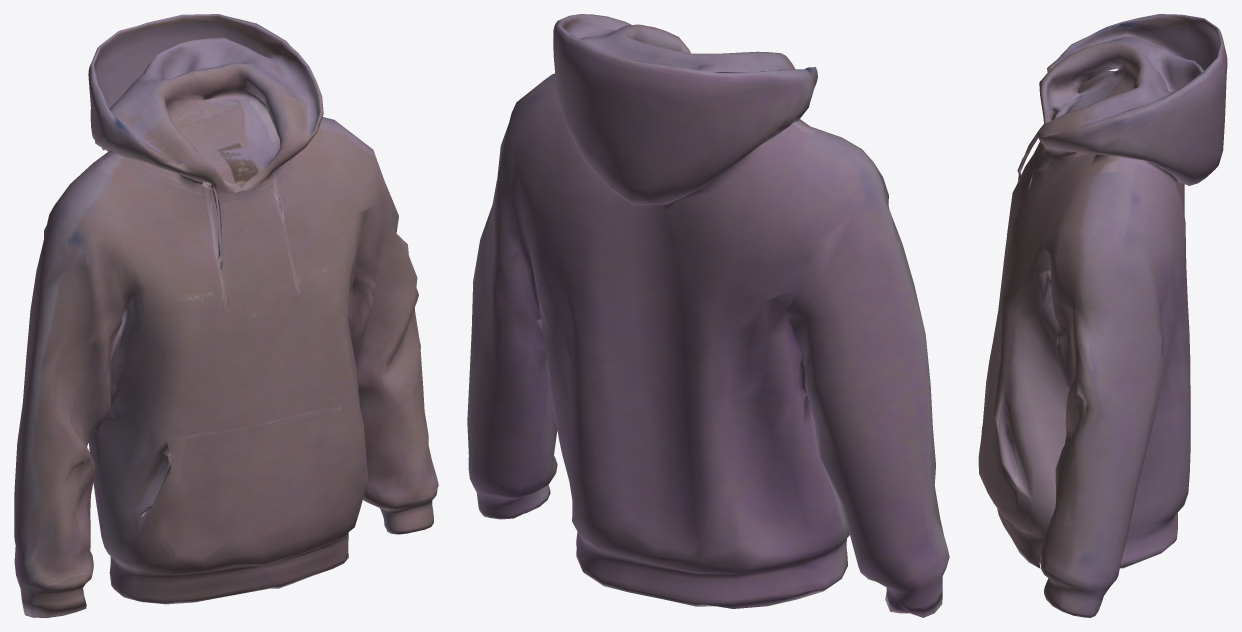
3 views of the same model, side by side, from view 1: azimuth 30°, elevation 25°; view 2: azimuth 150°, elevation 25°; view 3: azimuth 270°, elevation 25° (orthographic). The views are drawn at different scales.
Parts seen in each view (by area): view 1: file1; view 2: file1; view 3: file1.
Boxes of the visible parts, x1=… form: file1: x1=14, y1=14, x2=438, y2=617; file1: x1=467, y1=14, x2=949, y2=617; file1: x1=978, y1=14, x2=1227, y2=617.
Bounding box in the file's own units: 1.72 × 1.99 × 0.9315.
Materials: 1 (1 with a texture image).
